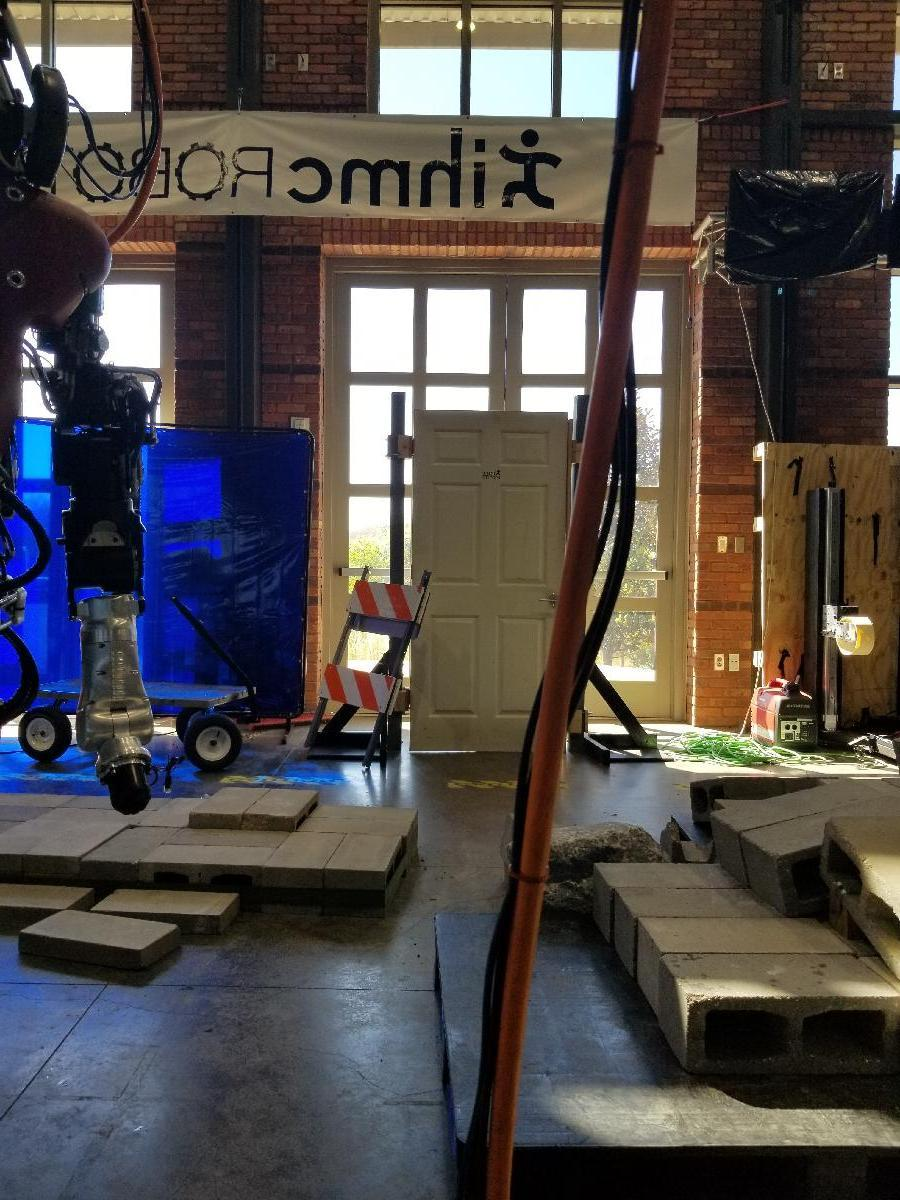door: (404, 413, 570, 759)
handle: (534, 590, 560, 610)
